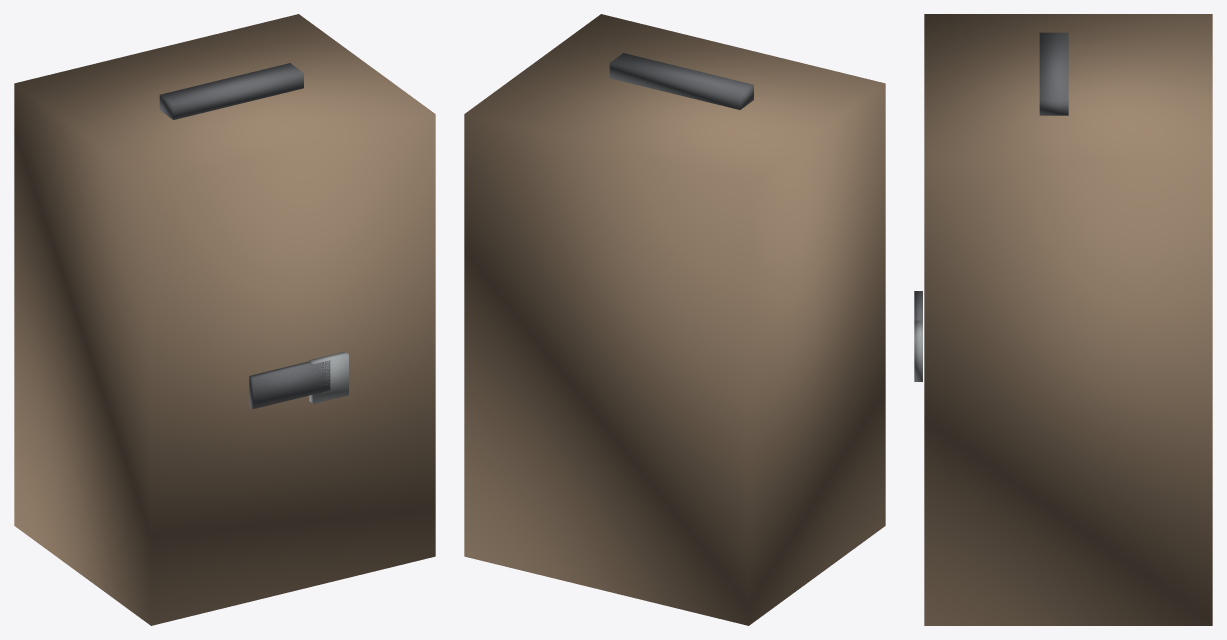
Rendered from donation_box__weathered.glb.
The picture shows the model from 3 angles, left to right: view 1: azimuth 30°, elevation 25°; view 2: azimuth 150°, elevation 25°; view 3: azimuth 270°, elevation 25°; orthographic projection. The views are drawn at different scales.
Parts seen in each view (by area): view 1: world; view 2: world; view 3: world.
Boxes of the visible parts, left/top/right/bottom form: world: left=14, top=14, right=435, bottom=625; world: left=464, top=14, right=885, bottom=625; world: left=914, top=14, right=1212, bottom=625.
Bounding box in the file's own units: 0.48 × 0.745 × 0.414.
